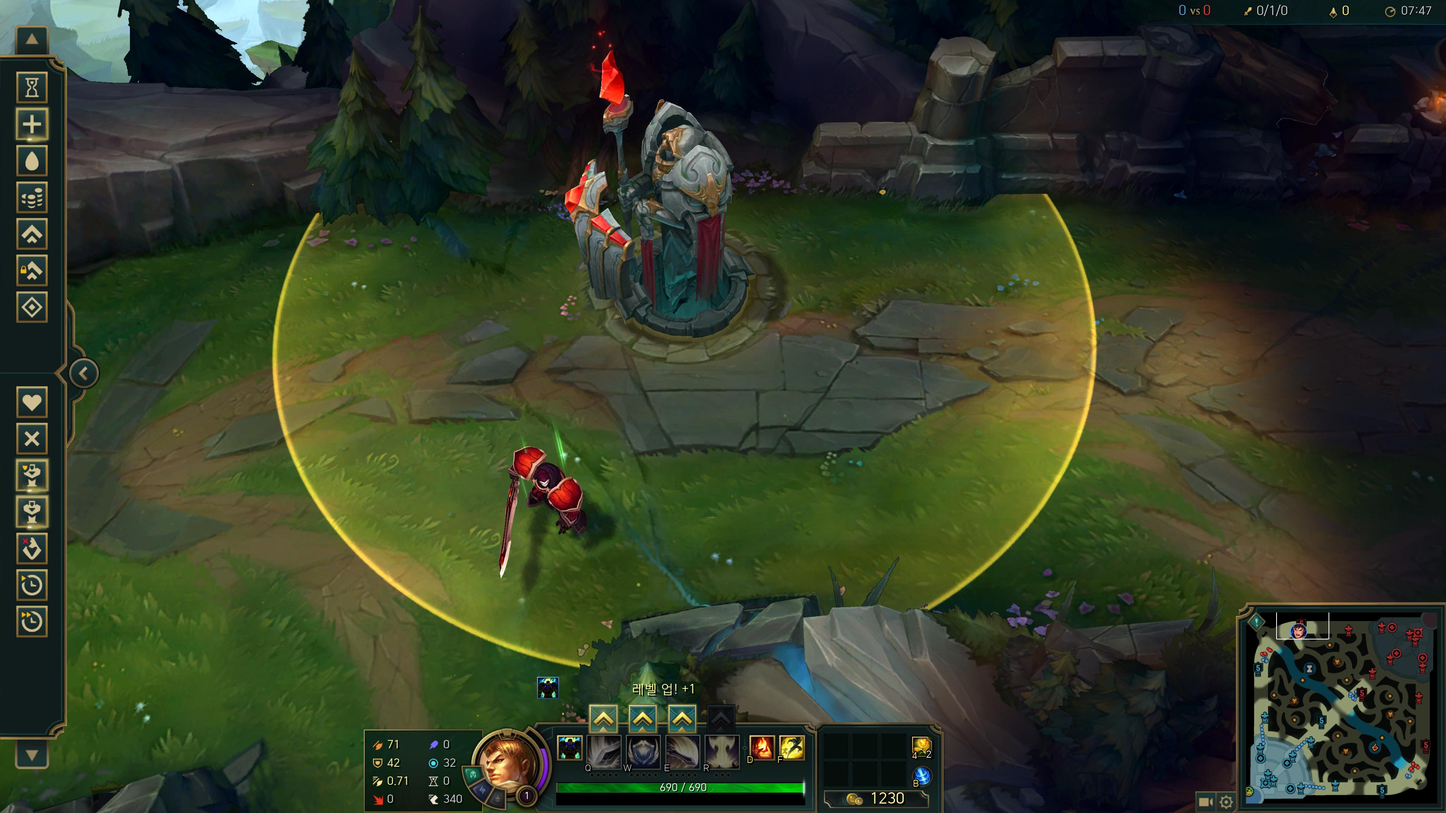enemy-tower: (566, 49, 779, 366)
